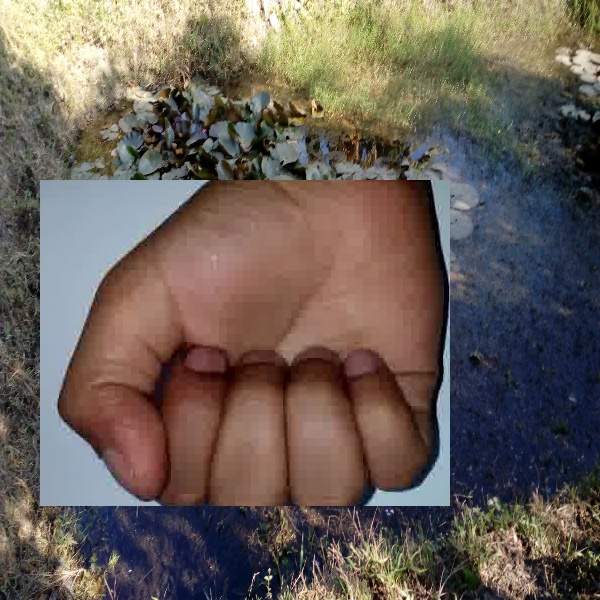A: (40, 180, 450, 506)
